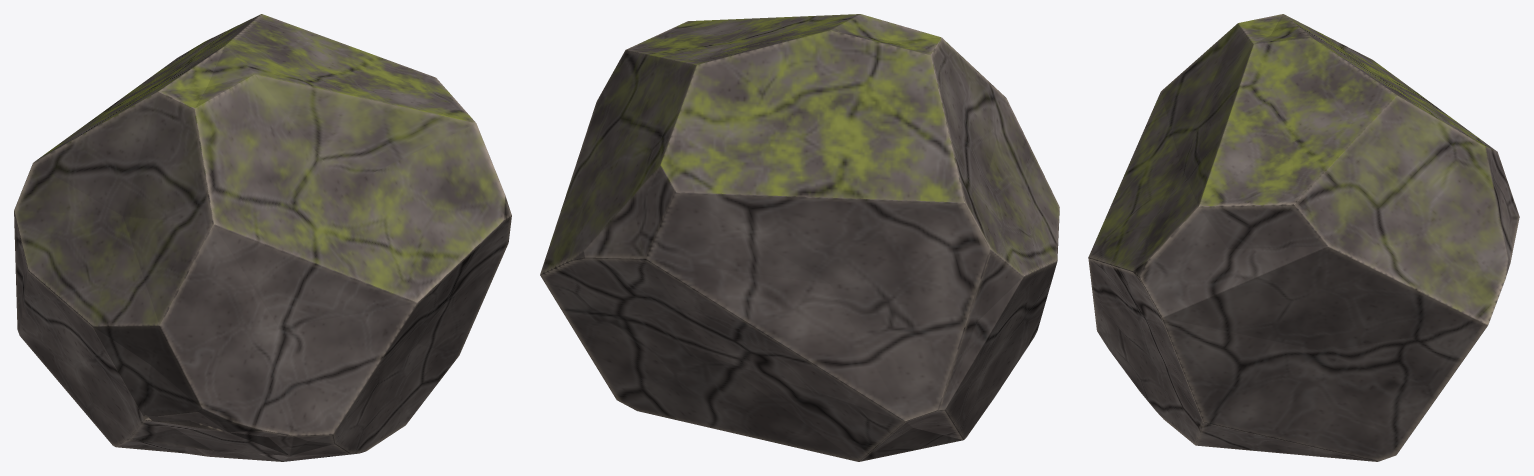
File: Stone_Medium_C.fbx
3 views of the same model, side by side, from view 1: azimuth 30°, elevation 25°; view 2: azimuth 150°, elevation 25°; view 3: azimuth 270°, elevation 25° (orthographic). The views are drawn at different scales.
Visible parts, largest first — view 1: Stone_Medium_C; view 2: Stone_Medium_C; view 3: Stone_Medium_C.
Boxes of the visible parts, bbox=[...] form: Stone_Medium_C: bbox=[14, 14, 511, 461]; Stone_Medium_C: bbox=[540, 14, 1059, 461]; Stone_Medium_C: bbox=[1088, 14, 1519, 461].
Bounding box in the file's own units: 0.5401 × 0.4676 × 0.5205.
